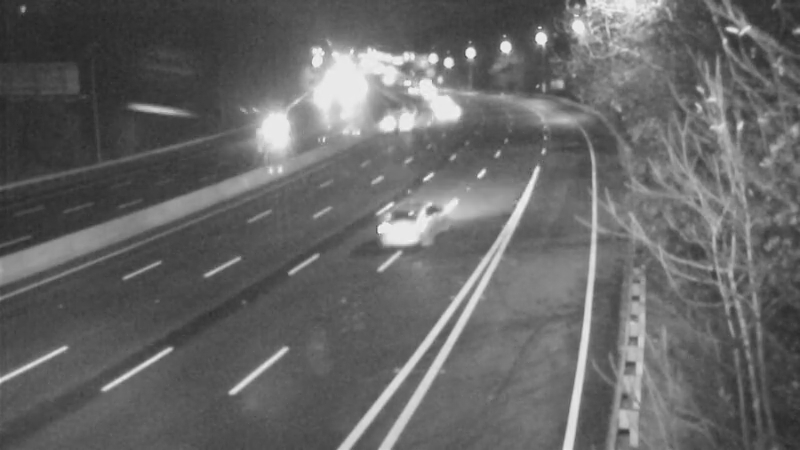vehicle: (355, 191, 435, 271), (417, 91, 467, 141), (372, 98, 422, 148), (248, 108, 298, 158)
